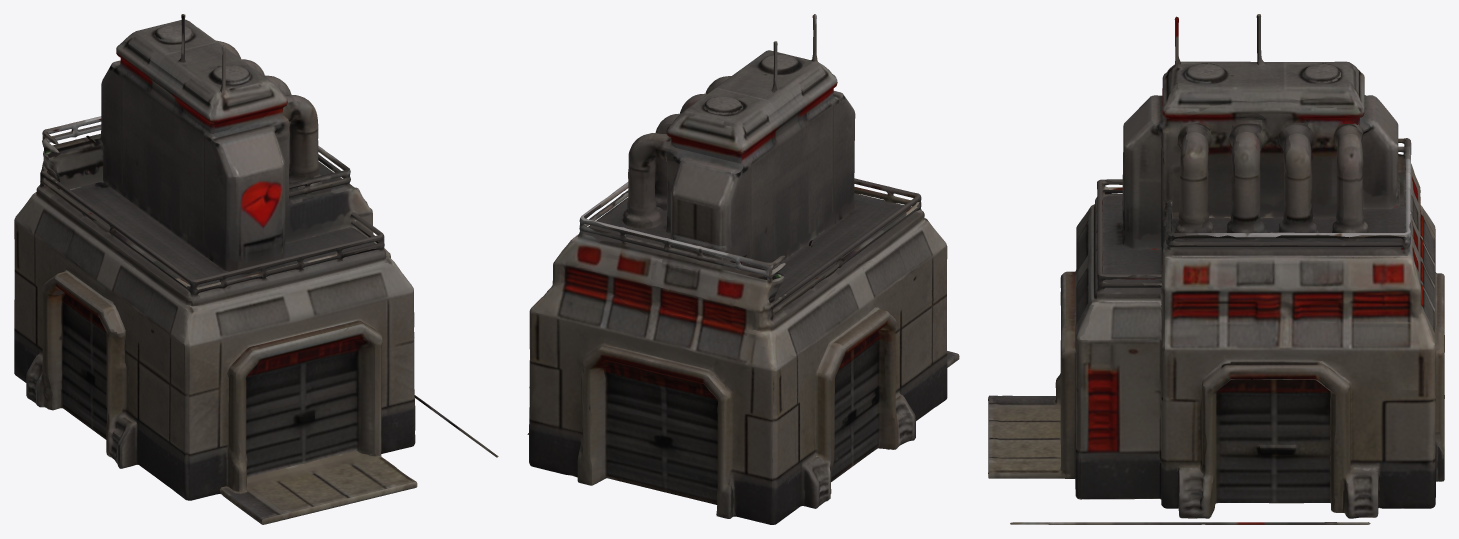
3 renders of one model, left to right at view 1: azimuth 30°, elevation 25°; view 2: azimuth 150°, elevation 25°; view 3: azimuth 270°, elevation 25°, orthographic. The views are drawn at different scales.
Parts seen in each view (by area): view 1: tmp8m5a4m_7.ply; view 2: tmp8m5a4m_7.ply; view 3: tmp8m5a4m_7.ply.
Part boxes in pixels (x1=…): tmp8m5a4m_7.ply: x1=14, y1=14, x2=498, y2=524; tmp8m5a4m_7.ply: x1=527, y1=14, x2=959, y2=524; tmp8m5a4m_7.ply: x1=988, y1=14, x2=1444, y2=524.
Bounding box in the file's own units: 1.51 × 1.96 × 1.96.
1 material, 1 textured.
